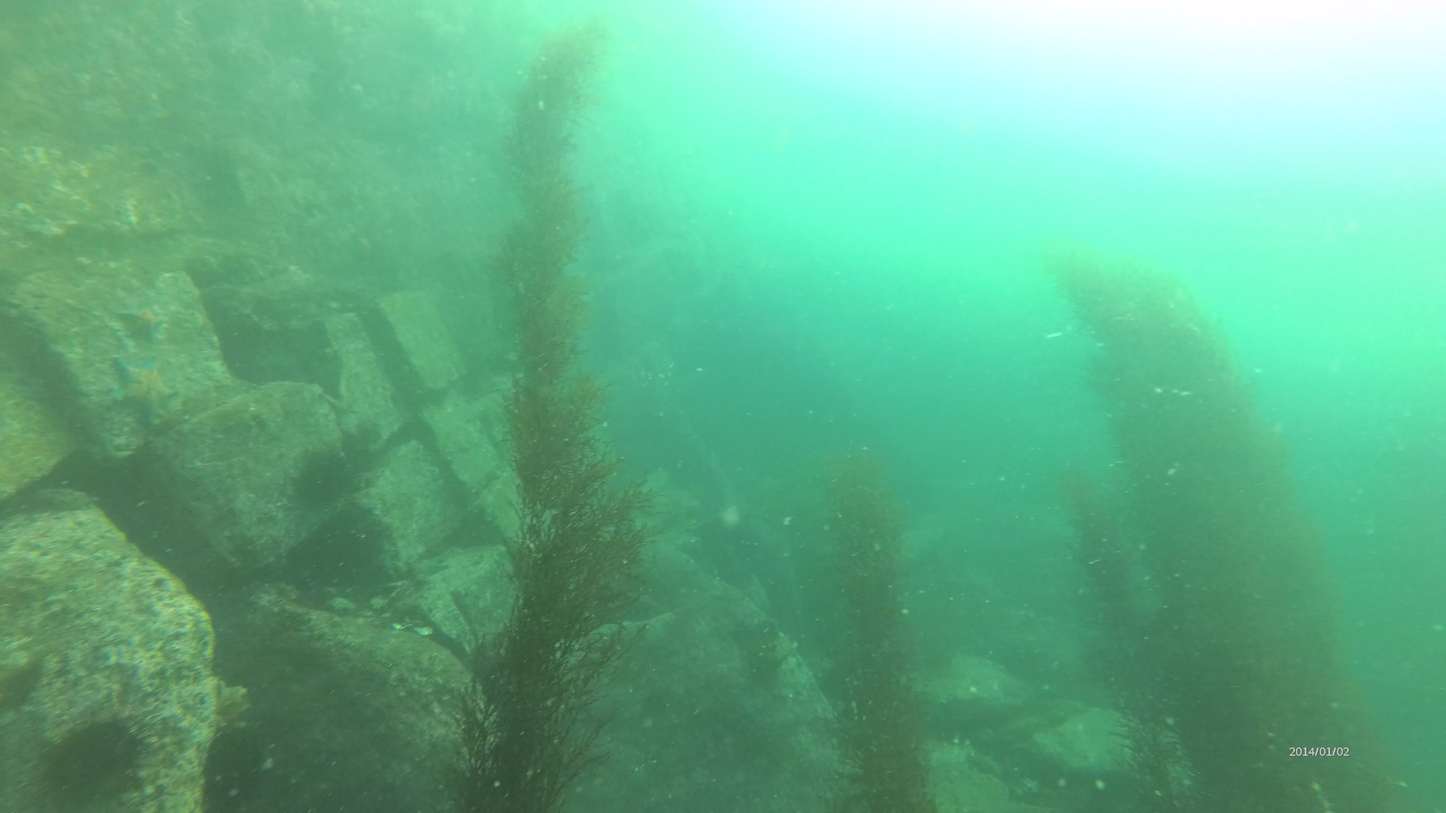holothurian: (107, 355, 177, 432), (119, 300, 174, 347)
